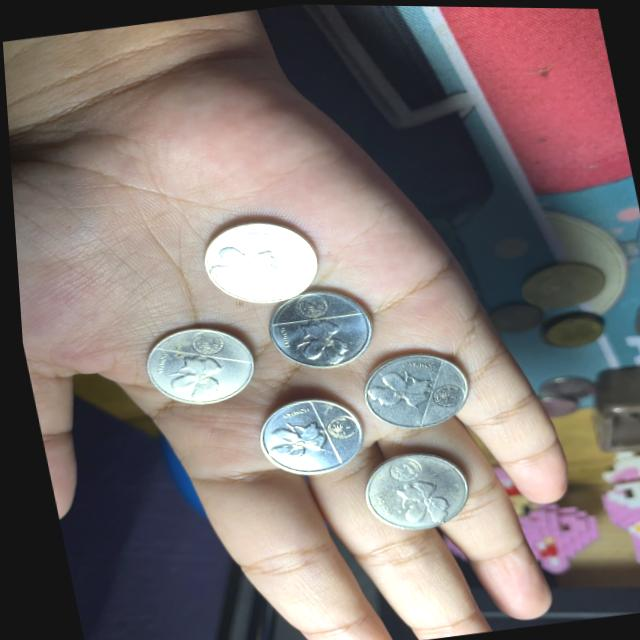25Cent_New_Back: (354, 354, 439, 415), (151, 350, 231, 405), (256, 412, 325, 469), (290, 313, 354, 366), (378, 479, 443, 531)
